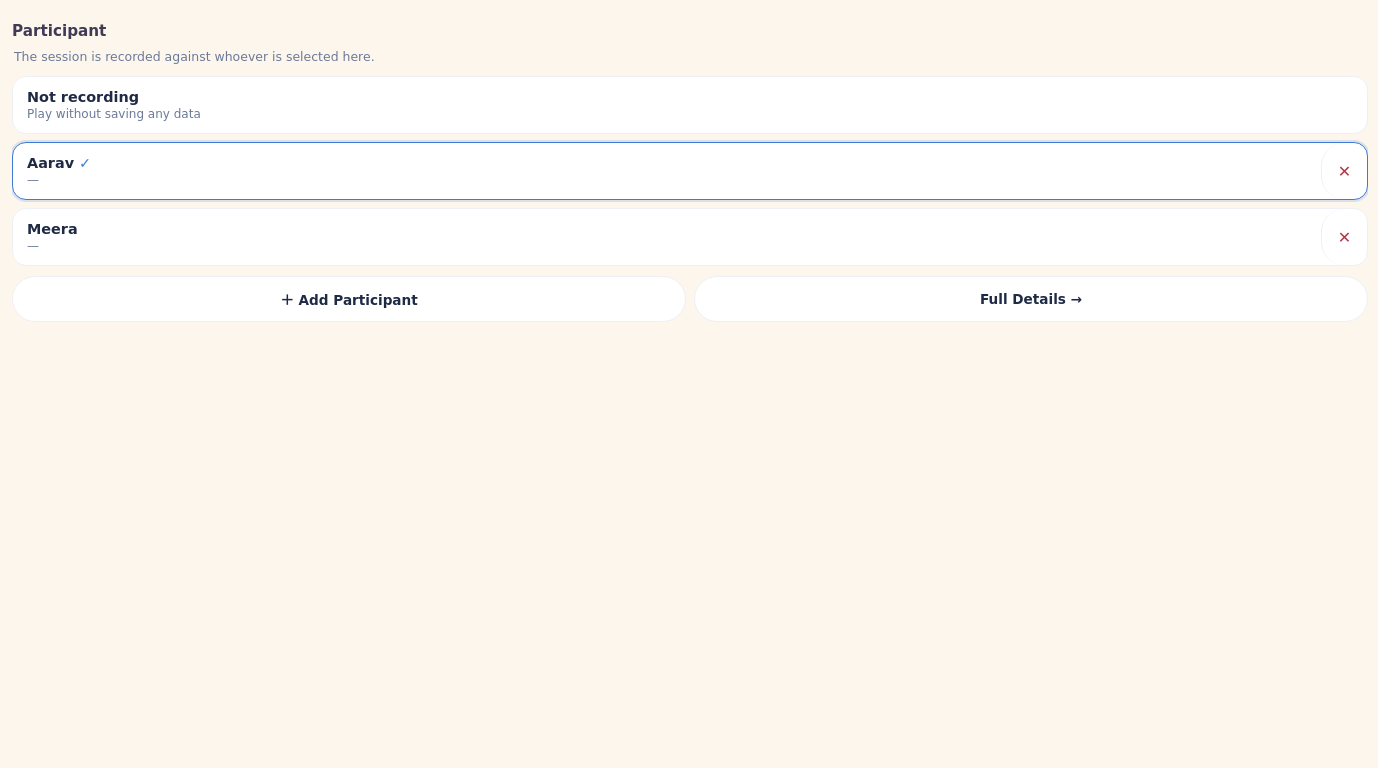
Test: adding a participant mid-session › says so when the server refuses, and keeps what was typed
Click the button "＋ Add participant" at (349, 299), box [12,276,686,322]
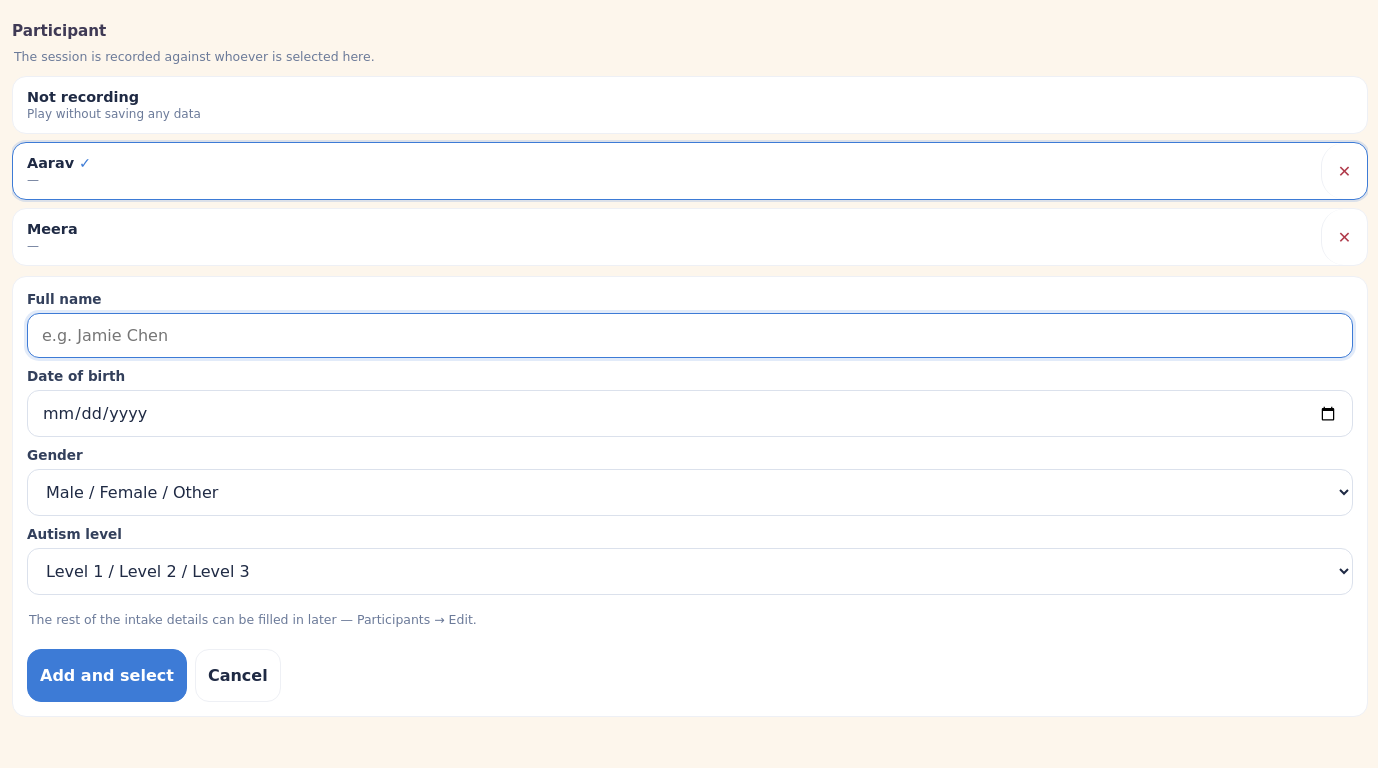
Type "Ravi" into the field labelled "Full name" at (690, 336), box [27,313,1353,358]
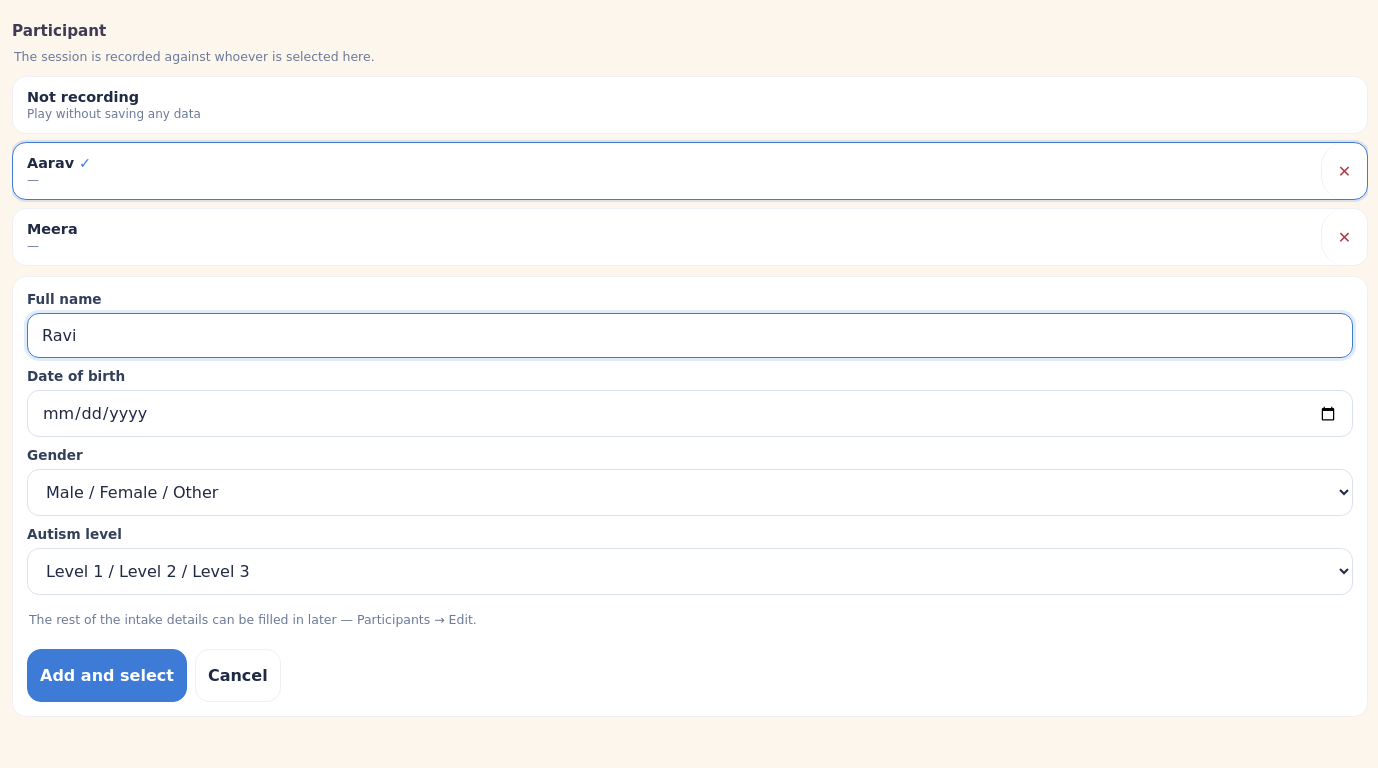
Click the button "Add and select" at (107, 676), box [27,649,187,702]
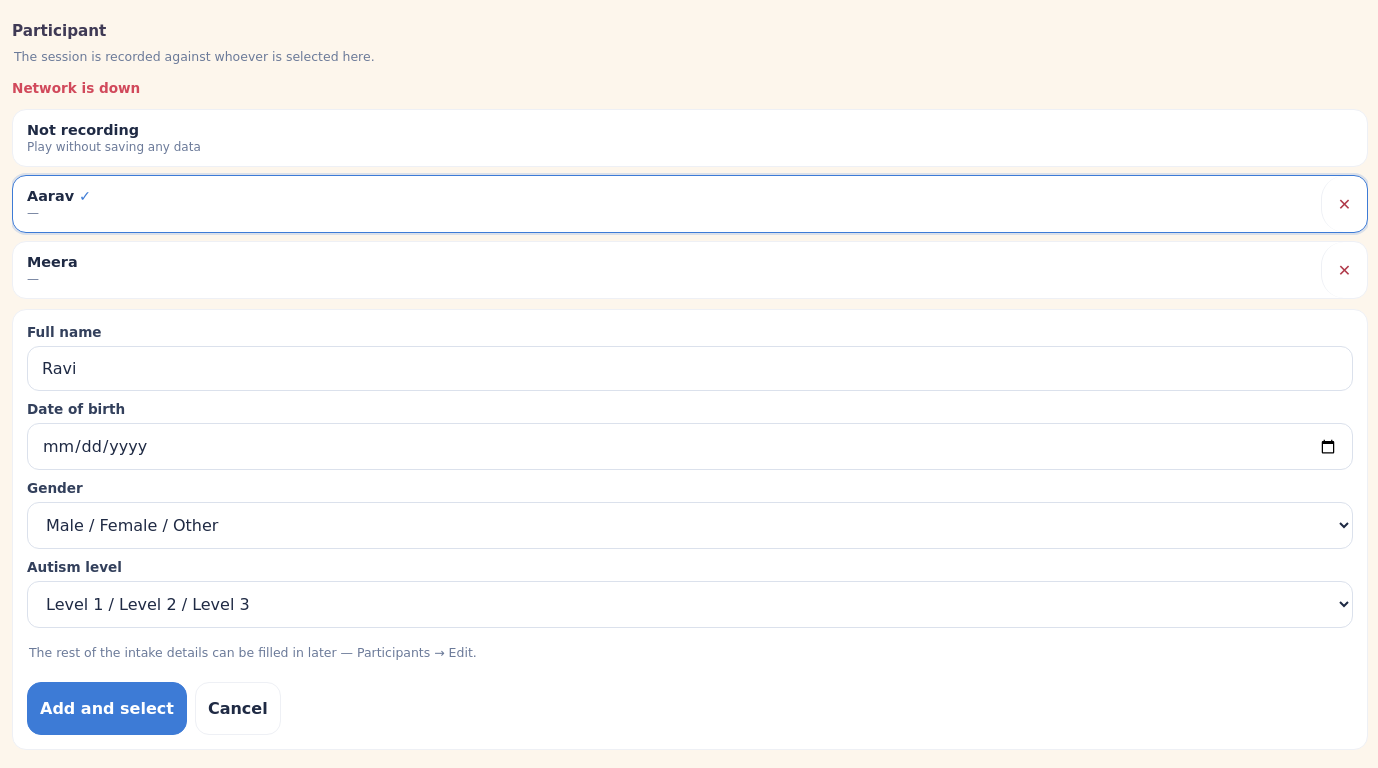
expect the text "Network is down" is shown: met, box [12,80,140,96]
